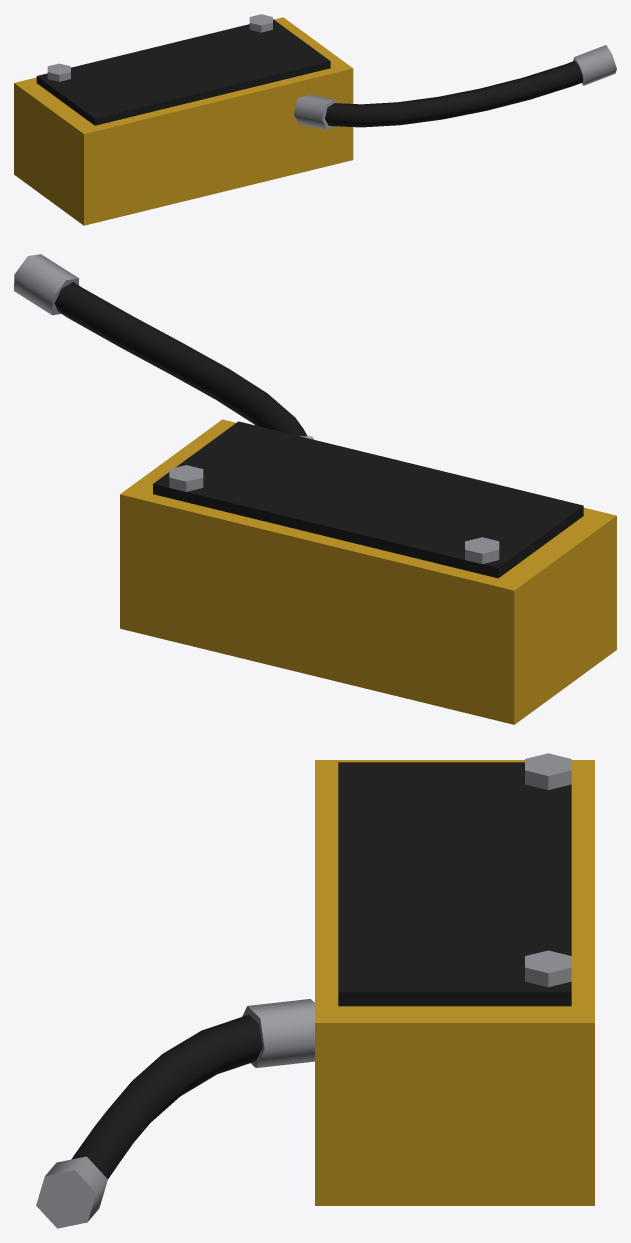
3 renders of one model, top to bottom at view 1: azimuth 30°, elevation 25°; view 2: azimuth 150°, elevation 25°; view 3: azimuth 270°, elevation 25°, orthographic. The views are drawn at different scales.
Parts seen in each view (by area): view 1: dr5_rx; view 2: dr5_rx; view 3: dr5_rx.
Boxes of the visible parts, x1,y1,x2,y2 form: dr5_rx: (14, 14, 616, 225); dr5_rx: (14, 254, 616, 724); dr5_rx: (36, 753, 594, 1228).
Bounding box in the file's own units: 1.39 × 0.3182 × 0.7188.
